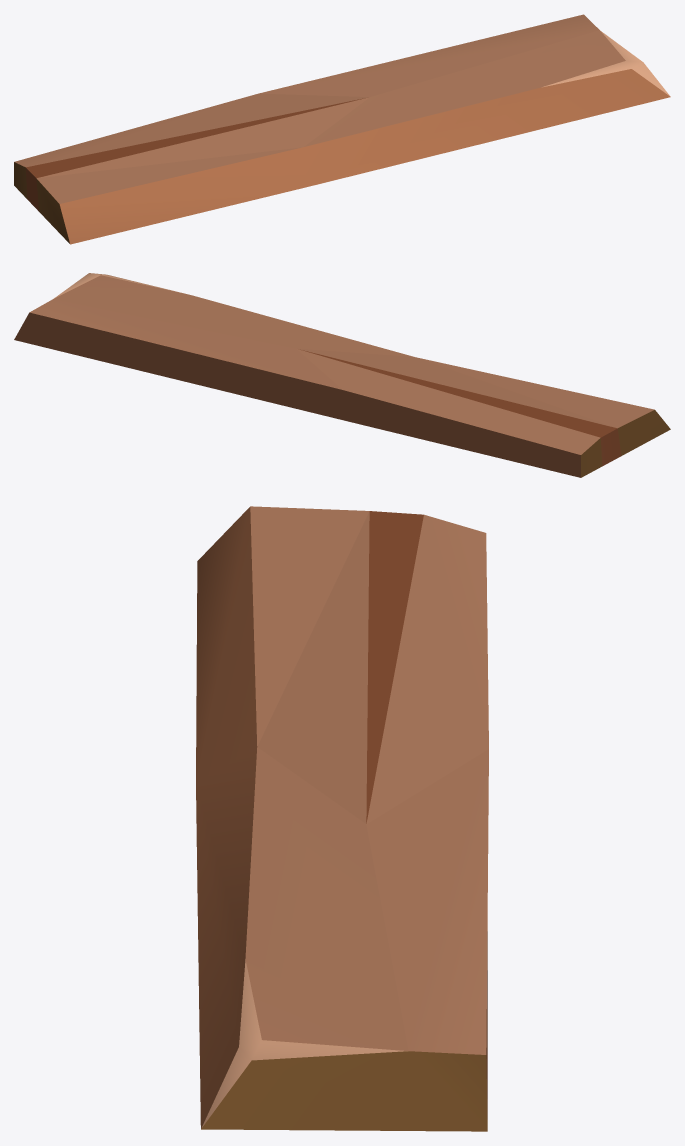
File: wood_002.fbx
The picture shows the model from 3 angles, top to bottom: view 1: azimuth 30°, elevation 25°; view 2: azimuth 150°, elevation 25°; view 3: azimuth 270°, elevation 25°; orthographic projection. The views are drawn at different scales.
Parts seen in each view (by area): view 1: wood_002; view 2: wood_002; view 3: wood_002.
Part boxes in pixels (x1,y1,x2,y2): wood_002: (14, 14, 670, 244); wood_002: (14, 273, 670, 477); wood_002: (196, 506, 488, 1131).
Size of the model in its own units: 338 by 17.11 by 73.47.
